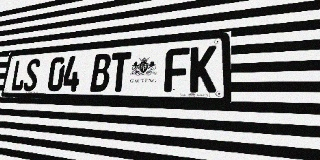0: (47, 57, 66, 91)
4: (62, 55, 82, 91)
B: (90, 53, 112, 92)
F: (164, 47, 190, 92)
K: (189, 45, 217, 92)
L: (10, 59, 28, 91)
S: (23, 58, 41, 91)
T: (108, 52, 131, 92)
